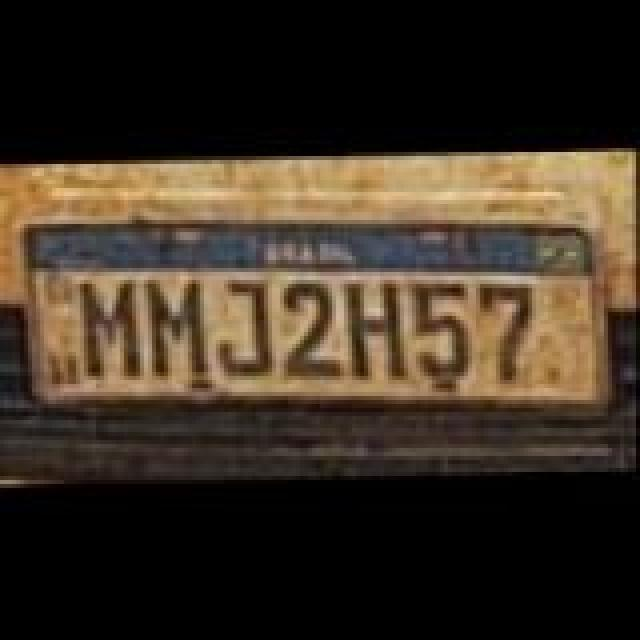2: (282, 280, 346, 380)
5: (410, 284, 474, 388)
7: (480, 282, 540, 386)
H: (346, 282, 410, 382)
J: (216, 282, 276, 382)
M: (142, 276, 214, 380), (82, 280, 146, 384)
